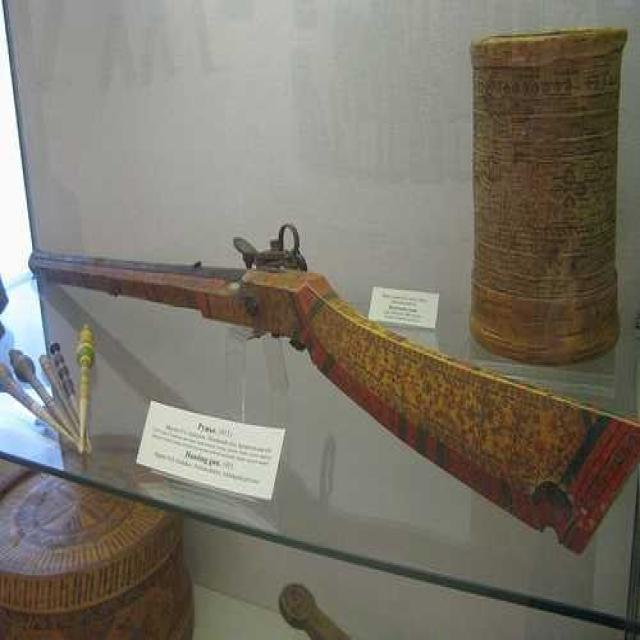heavyweapon: (17, 221, 640, 576)
